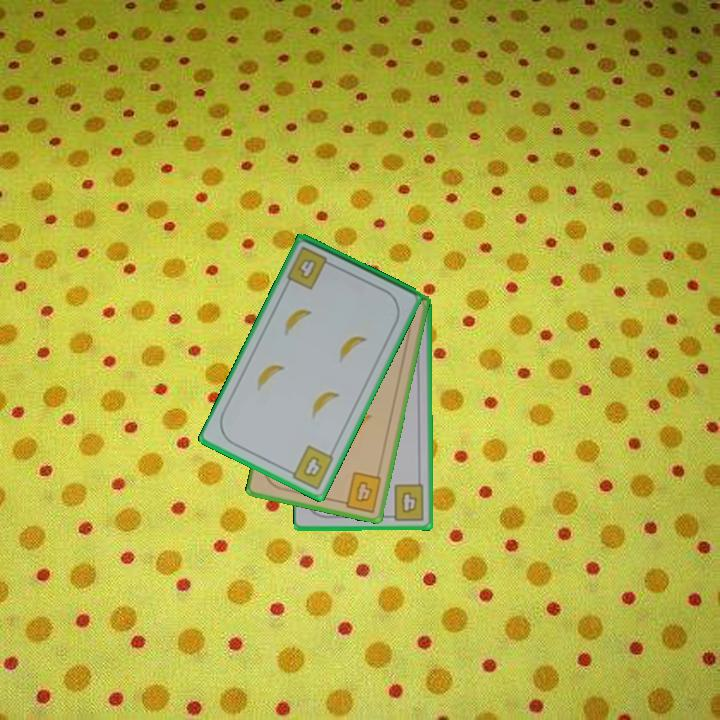4b: (283, 442, 336, 493), (283, 243, 337, 293), (336, 468, 384, 515), (384, 481, 427, 523)
